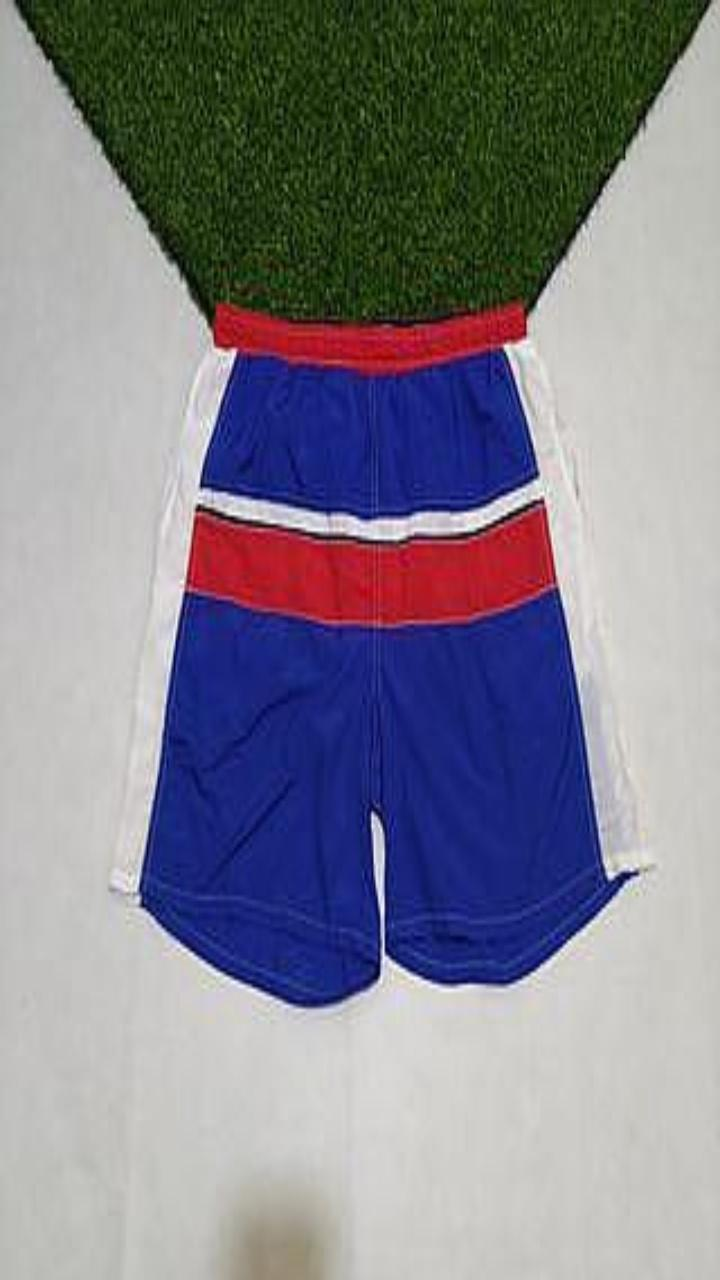Shorts: (112, 305, 648, 1003)
